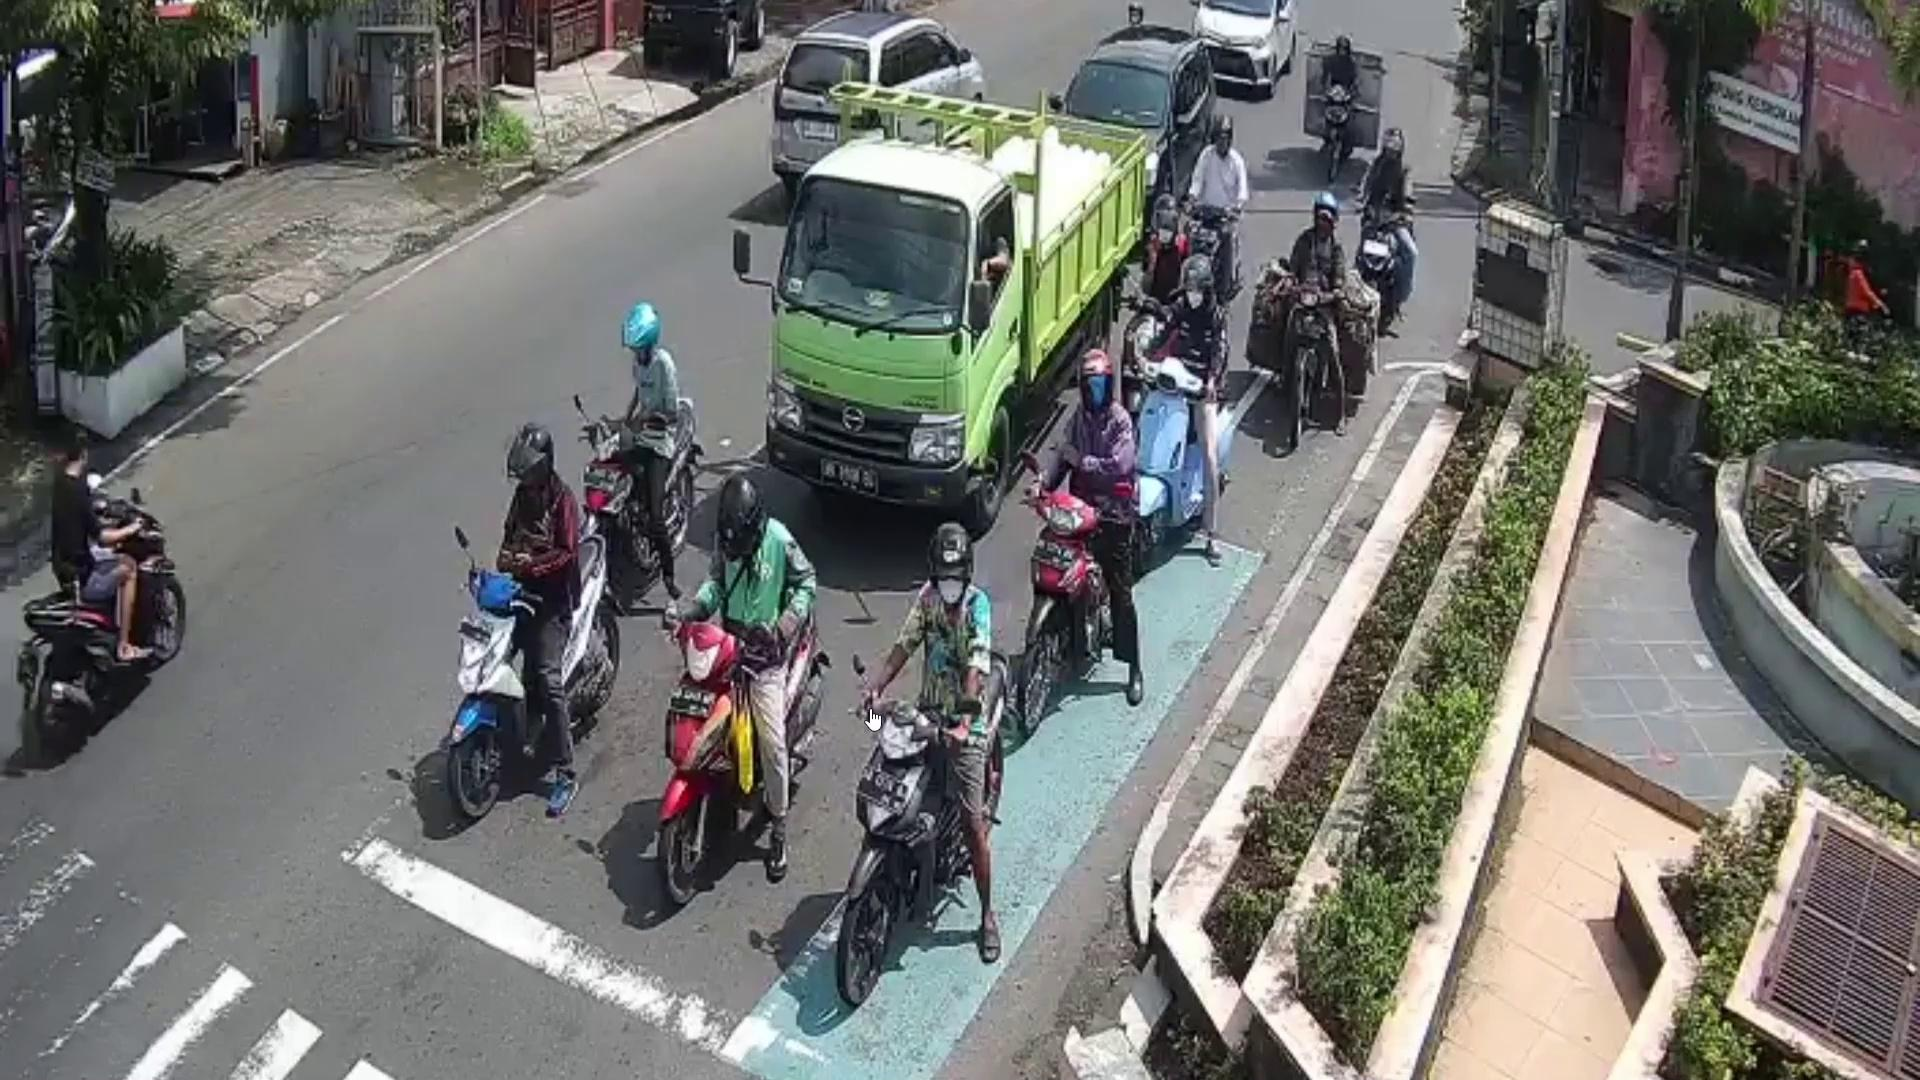car: (767, 7, 984, 189), (1054, 24, 1217, 240), (1199, 0, 1307, 96)
motorbike: (837, 646, 1015, 1005), (662, 588, 828, 907), (446, 529, 622, 823), (17, 493, 189, 777), (1017, 497, 1138, 733), (568, 396, 700, 580), (1127, 355, 1226, 563), (1282, 278, 1338, 444), (1356, 203, 1414, 336), (1324, 82, 1353, 178)
truck: (769, 75, 1150, 529)
